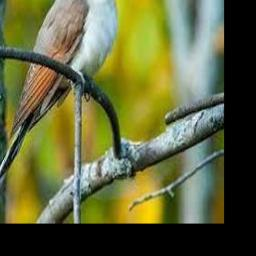Cuckoo: (0, 0, 120, 224)
